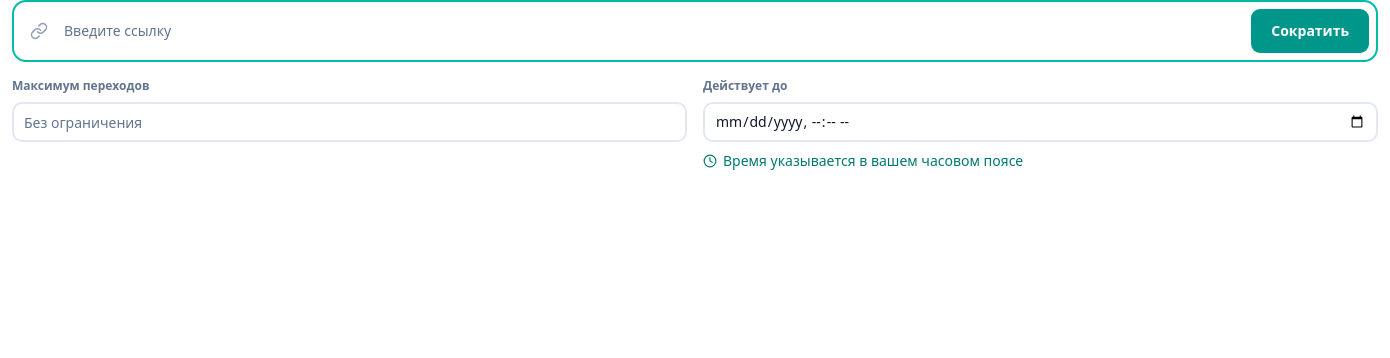
Test: CreateLinkForm › creates a link and shows the short url
Type "https://example.com/page" into the field named "Адрес ссылки" at (646, 31), box [48,5,1244,57]
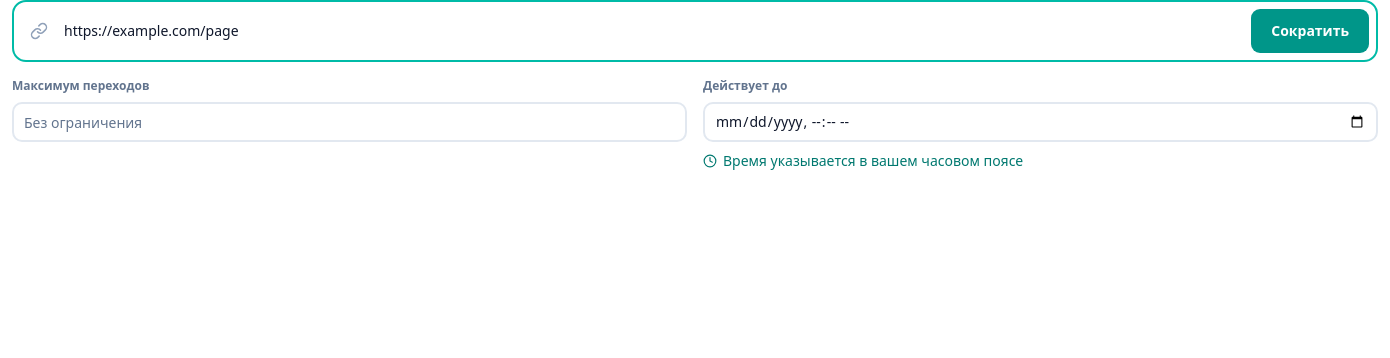
Type "3" into the field labelled "Максимум переходов" at (350, 122), box [12,102,687,142]
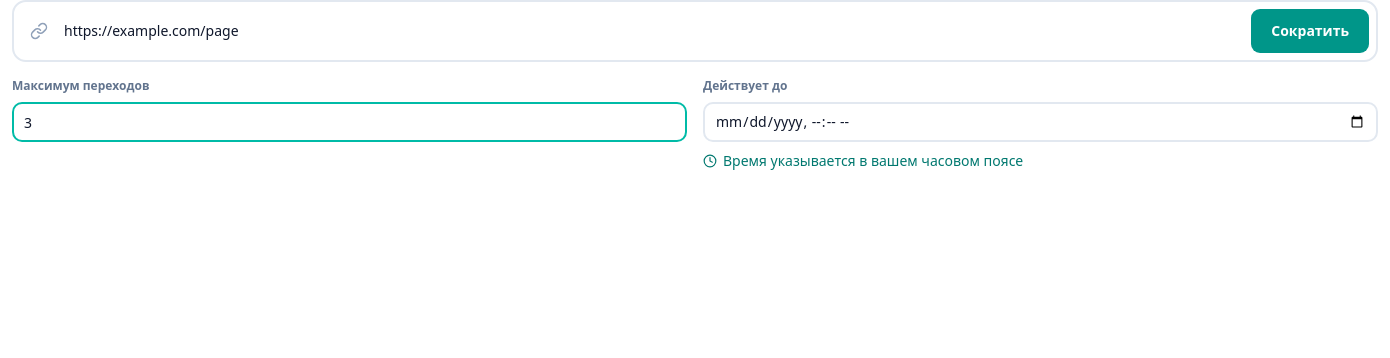
Type "2999-01-02T03:04" into the field labelled "Действует до" at (1040, 122), box [703,102,1378,142]
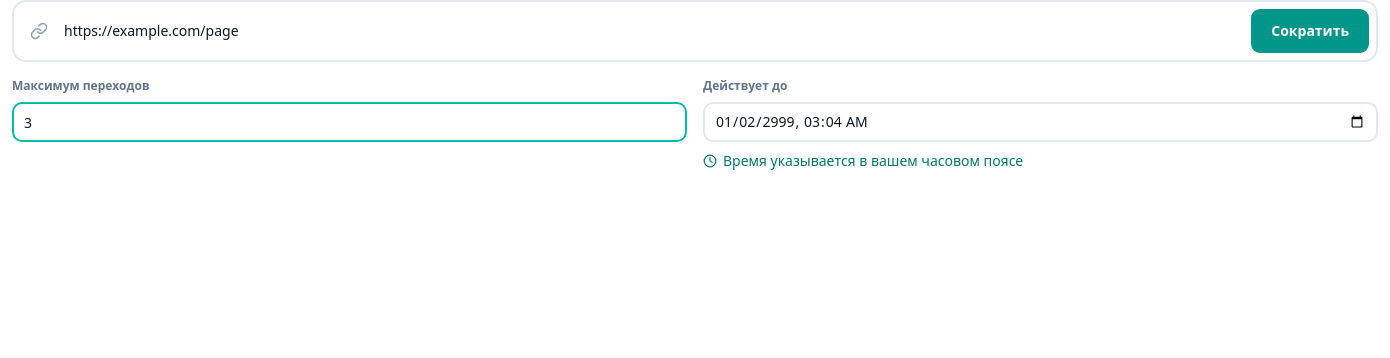
Click the button "Сократить" at (1310, 31), box [1250,8,1370,54]
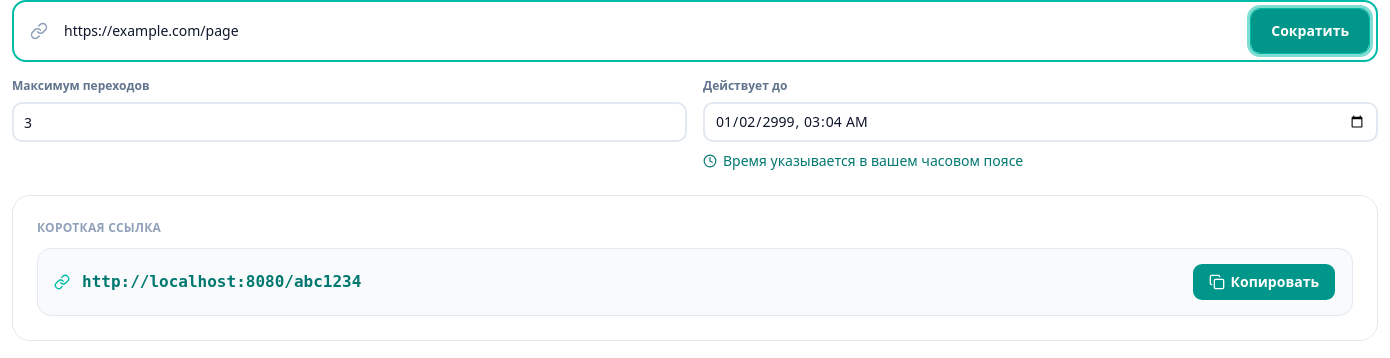
Result: the link "http://localhost:8080/abc1234" is shown at [82,272,361,291]
